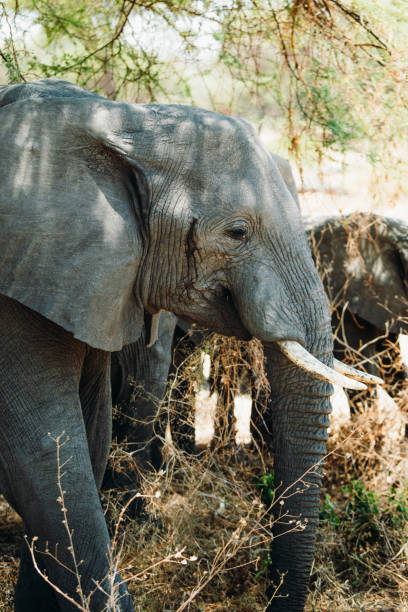africanelephant: (126, 126, 358, 435)
